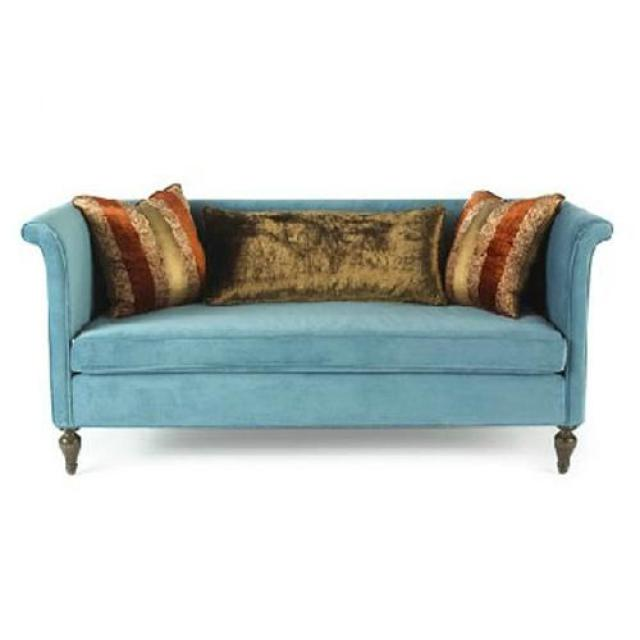sofa: (19, 193, 616, 481)
